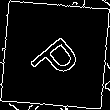P_NE: (23, 24, 87, 86)
